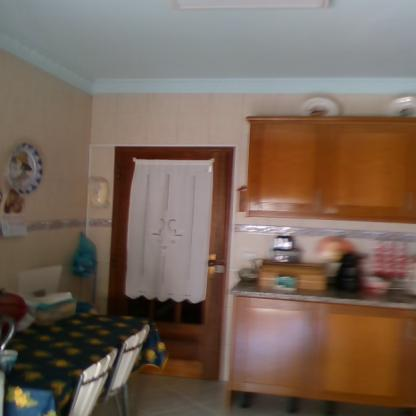door: (118, 154, 220, 380)
knob: (206, 258, 216, 268)
